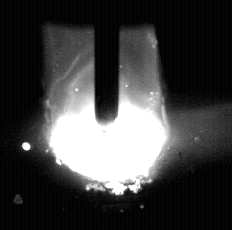arame: (94, 0, 120, 126)
poca: (49, 0, 170, 230)
